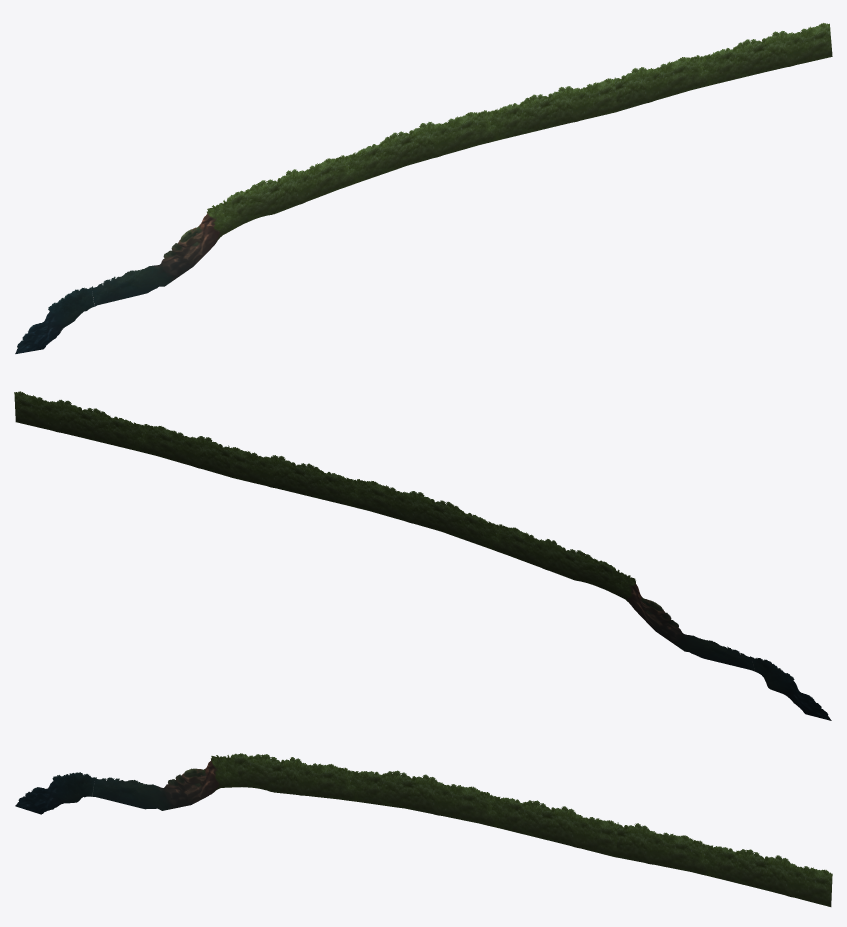
The model's file is Dark Forest Landscape BG Part 5.FBX.
3 renders of one model, top to bottom at view 1: azimuth 30°, elevation 25°; view 2: azimuth 150°, elevation 25°; view 3: azimuth 330°, elevation 25°, orthographic.
Parts seen in each view (by area): view 1: Grass Landscape BG Part 5; view 2: Grass Landscape BG Part 5; view 3: Grass Landscape BG Part 5.
Boxes of the visible parts, x1,y1,x2,y2 form: Grass Landscape BG Part 5: [15, 23, 832, 354]; Grass Landscape BG Part 5: [14, 391, 831, 720]; Grass Landscape BG Part 5: [15, 753, 832, 906].
Bounding box in the file's own units: 9047 × 92.4 × 1500.
